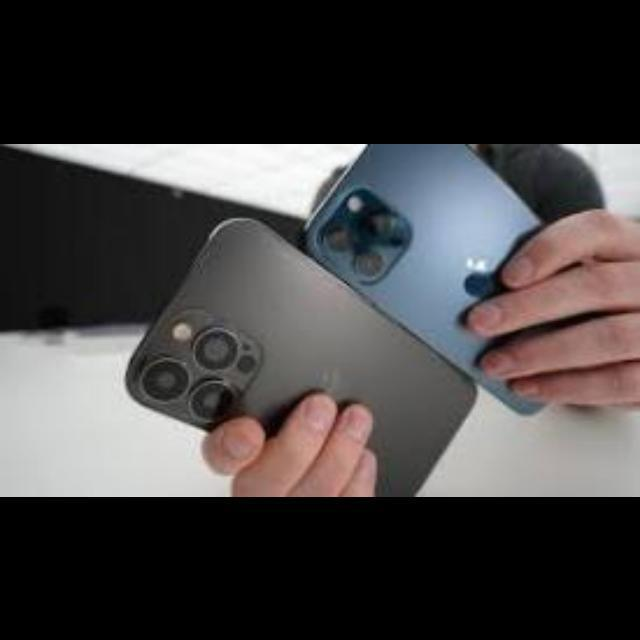PhoneUse: (122, 216, 470, 497), (303, 144, 582, 412)
